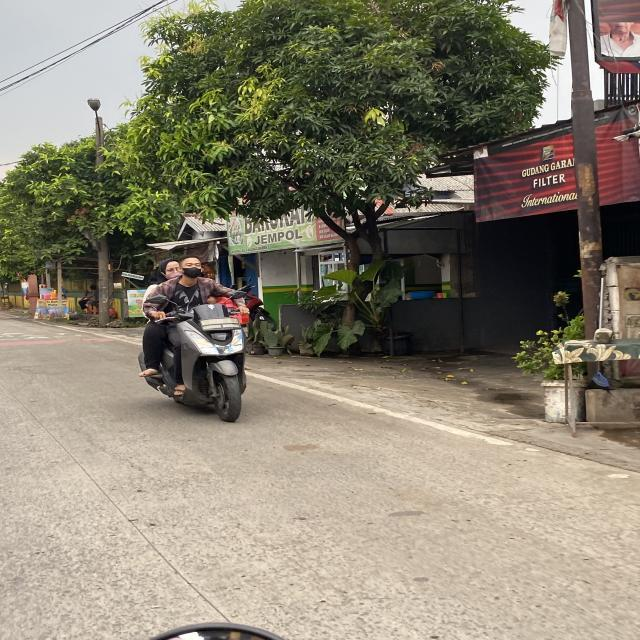Rearview Mirror: (151, 623, 282, 639), (146, 294, 167, 304)
